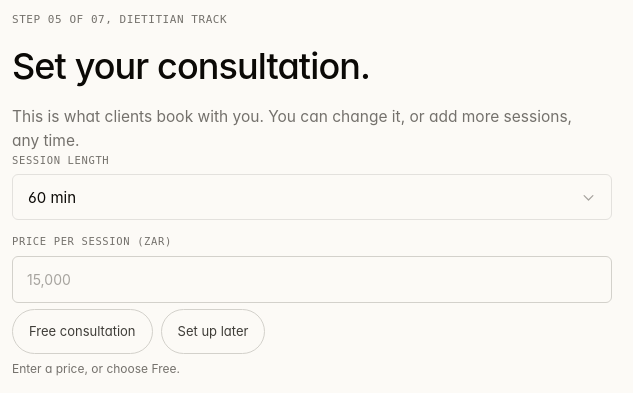
Scenario: dietitian consultation step › prices in the currency chosen on step 1 and says what a price saves
Type "450" into the field labelled "Price per session (ZAR)" at (312, 280), box left=12, top=256, right=612, bottom=303
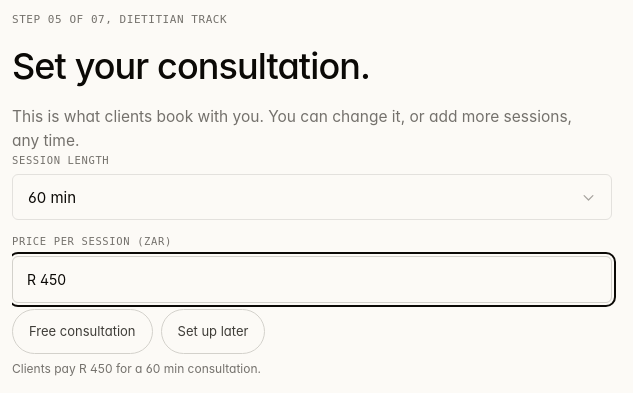
Check: the text "Clients pay R 450 for a 60 min consultation." is shown, box left=12, top=362, right=261, bottom=376
